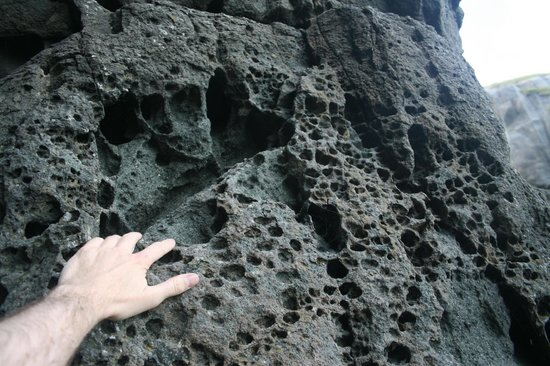volcanic_rock: (271, 115, 521, 358), (58, 31, 306, 225), (8, 1, 232, 205), (215, 202, 544, 332), (215, 106, 400, 312), (227, 178, 424, 355), (314, 12, 455, 215)
